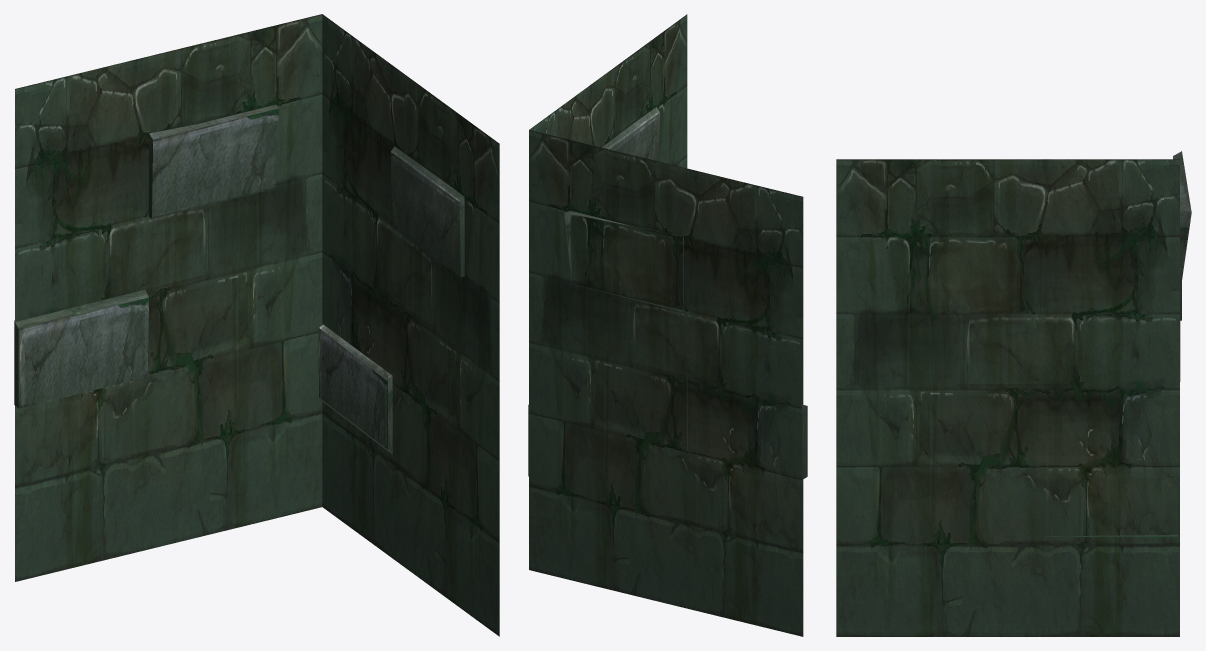
File: stemple_wall_concave_04.fbx
3 renders of one model, left to right at view 1: azimuth 30°, elevation 25°; view 2: azimuth 150°, elevation 25°; view 3: azimuth 270°, elevation 25°, orthographic. The views are drawn at different scales.
Parts seen in each view (by area): view 1: obj1.071; view 2: obj1.071; view 3: obj1.071.
Boxes of the visible parts, bbox=[...] form: obj1.071: bbox=[14, 14, 499, 636]; obj1.071: bbox=[528, 14, 807, 636]; obj1.071: bbox=[836, 151, 1191, 636].
Bounding box in the file's own units: 3.61 × 5.5 × 3.71.
